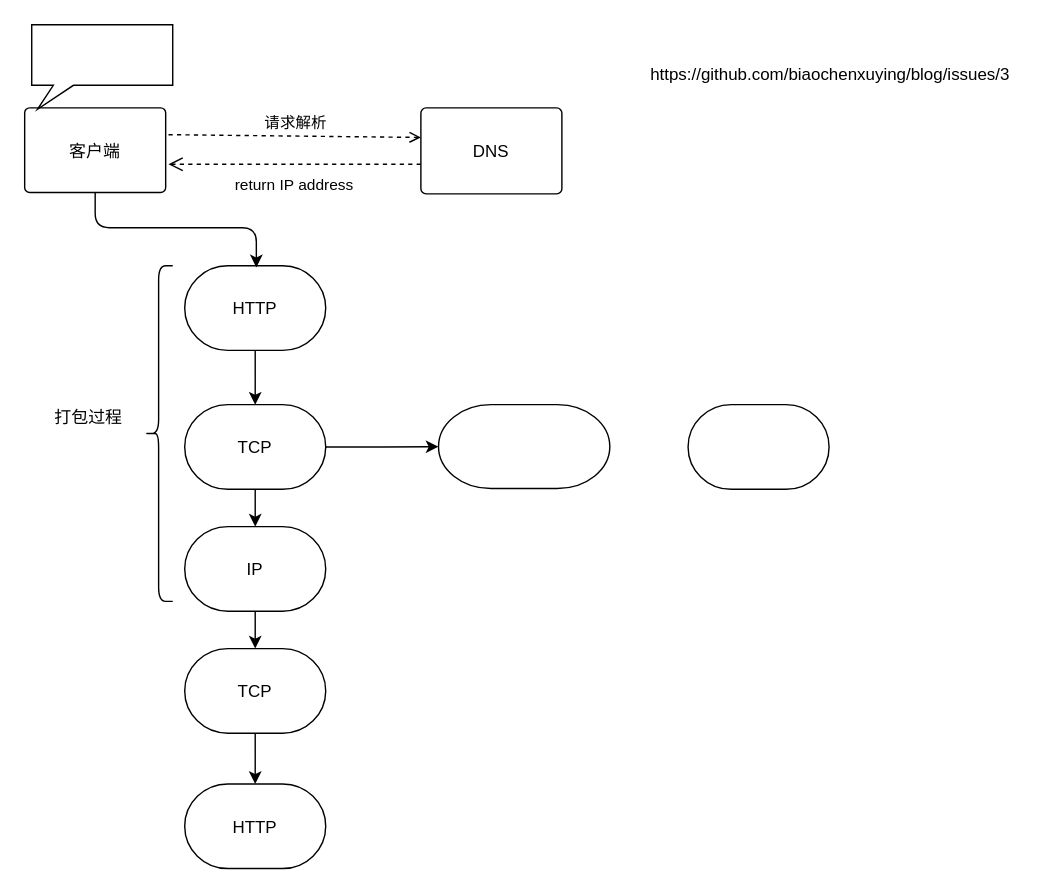
Some shapes in this 1041 by 894 pixel diagram are drawn without their labels. Each missing label, with the box of its shape:
关闭时4次握手: (687, 403, 829, 489)
建立tcp 连接 3次握手: (437, 403, 610, 489)
我想浏览http 页面: (30, 23, 173, 109)
